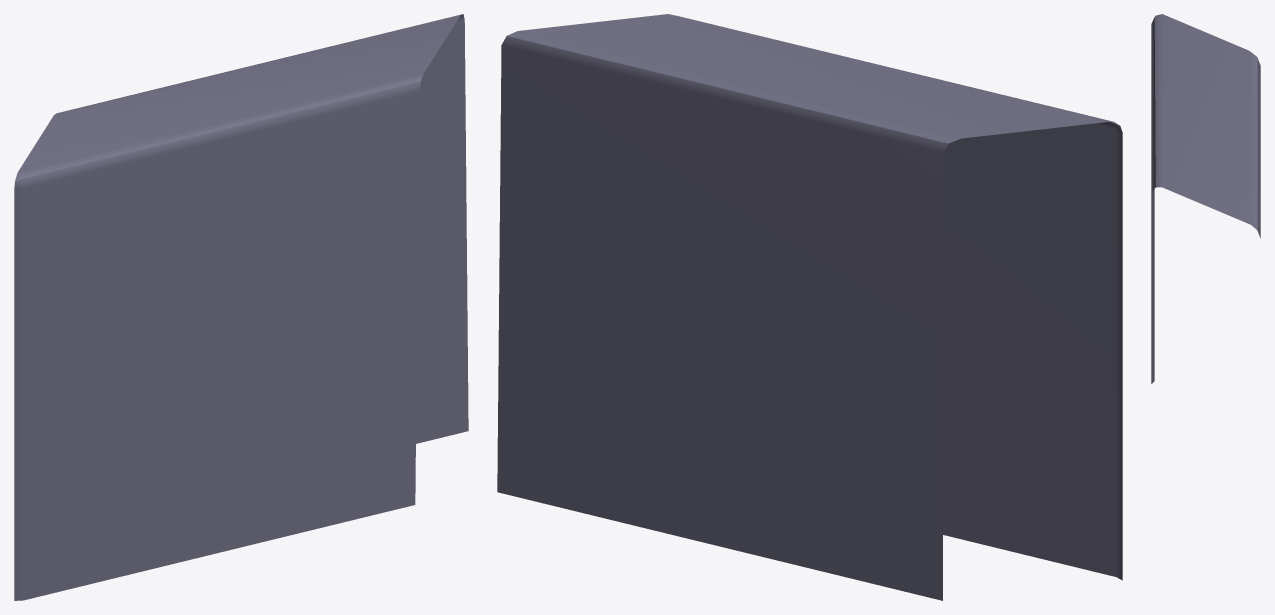
File: SM_BaseZ.fbx
The picture shows the model from 3 angles, left to right: view 1: azimuth 30°, elevation 25°; view 2: azimuth 150°, elevation 25°; view 3: azimuth 270°, elevation 25°; orthographic projection. The views are drawn at different scales.
Visible parts, largest first — view 1: pCube7; view 2: pCube7; view 3: pCube7.
Boxes of the visible parts, left/top/right/bottom form: pCube7: left=14, top=14, right=468, bottom=600; pCube7: left=497, top=14, right=1122, bottom=600; pCube7: left=1151, top=14, right=1260, bottom=383.
Size of the model in its own units: 382 by 300 by 80.
